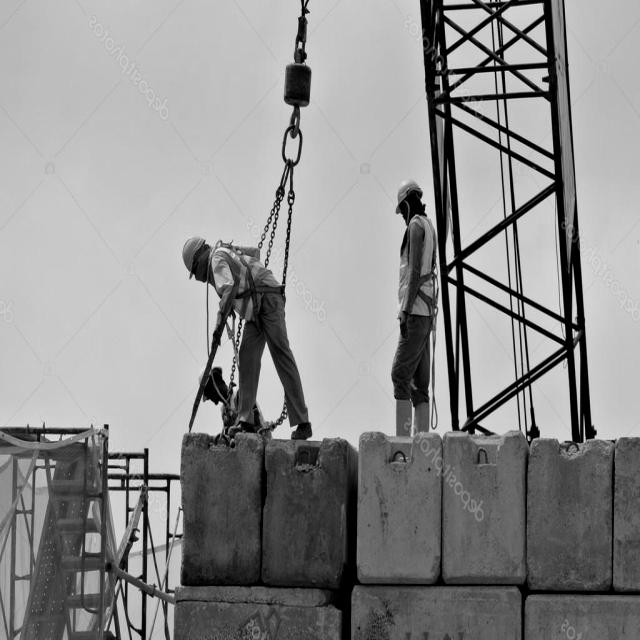hand_noglove: (394, 306, 417, 345)
head_helmet: (179, 236, 204, 278), (394, 174, 421, 211)
person: (182, 226, 279, 425), (390, 181, 436, 434)
vest: (214, 247, 274, 310), (396, 220, 432, 316)
